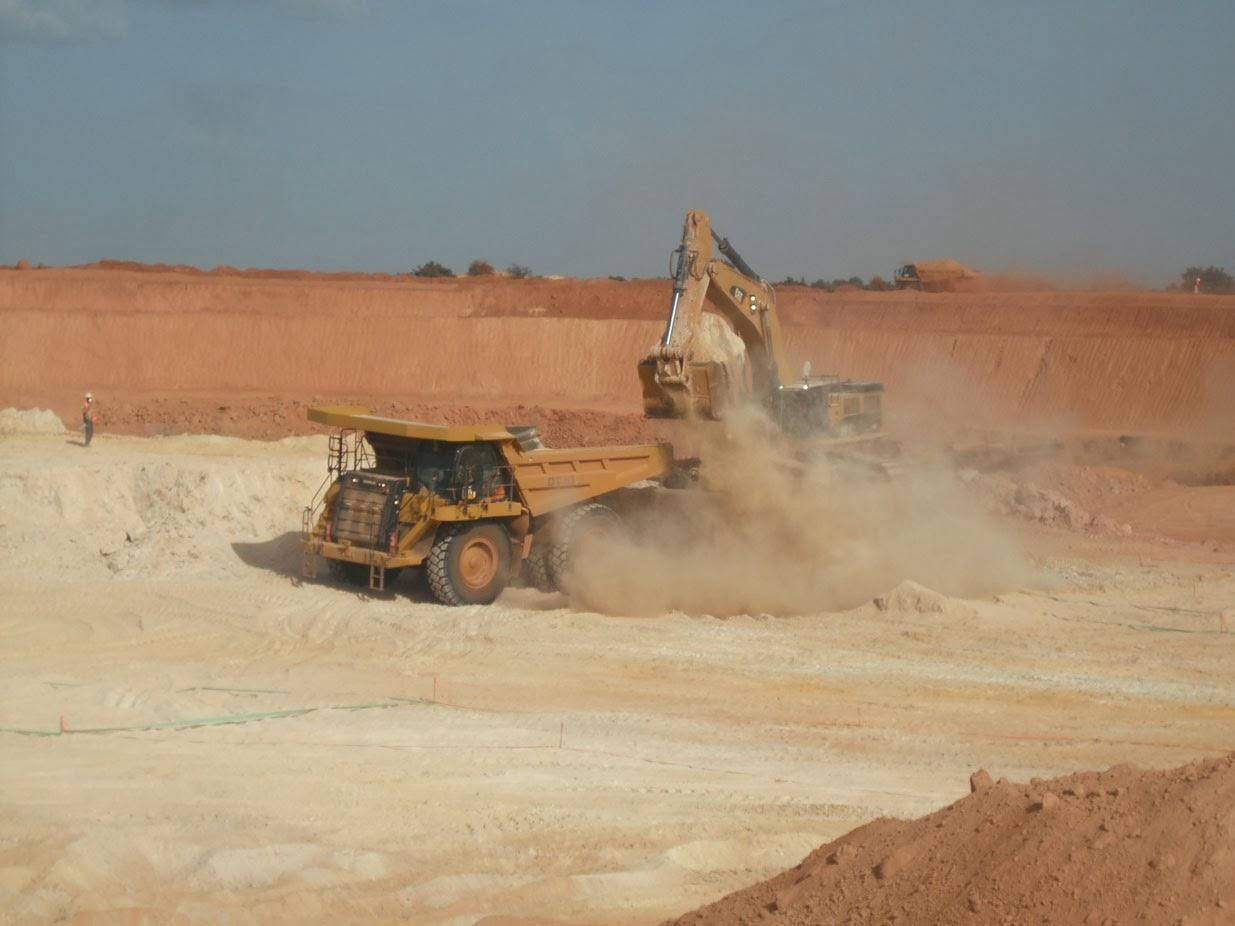ExcavationMachinery: (631, 207, 916, 531), (301, 403, 677, 603), (893, 261, 977, 295)
Person: (82, 393, 96, 447), (1193, 276, 1200, 295)
